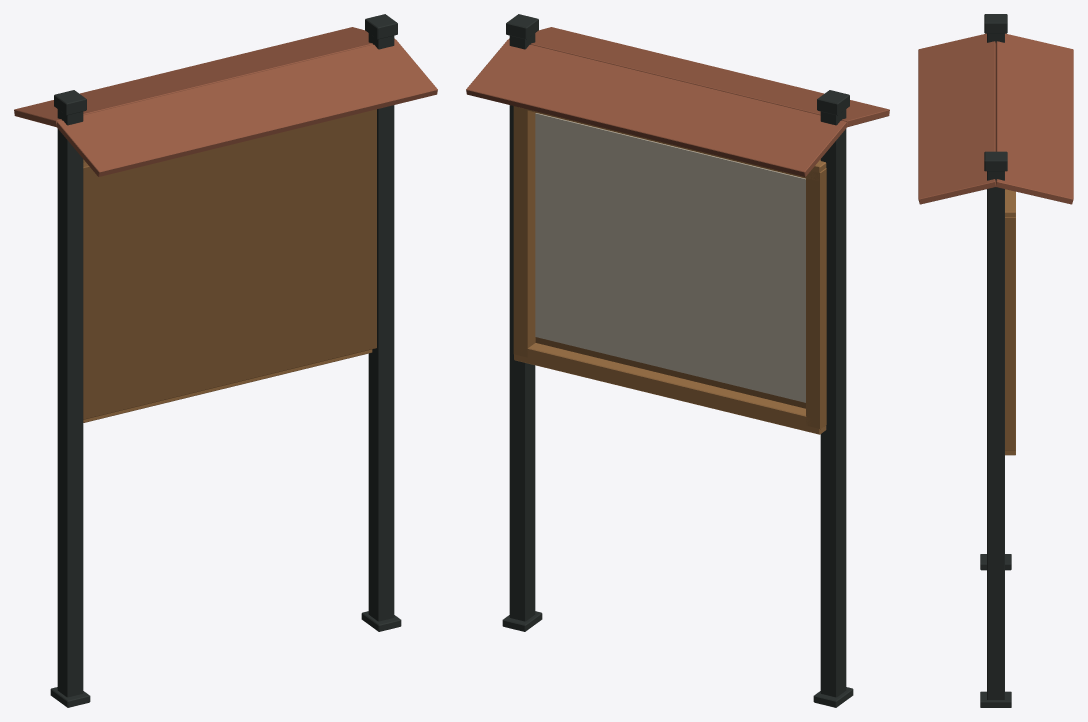
The model's file is noticeboard.glb.
3 renders of one model, left to right at view 1: azimuth 30°, elevation 25°; view 2: azimuth 150°, elevation 25°; view 3: azimuth 270°, elevation 25°, orthographic. The views are drawn at different scales.
Visible parts, largest first — view 1: body; view 2: body; view 3: body.
Part boxes in pixels (<box>): body: <box>14,14,437,707</box>; body: <box>466,14,889,707</box>; body: <box>918,14,1073,707</box>.
Bounding box in the file's own units: 1.46 × 2.48 × 0.6373.
